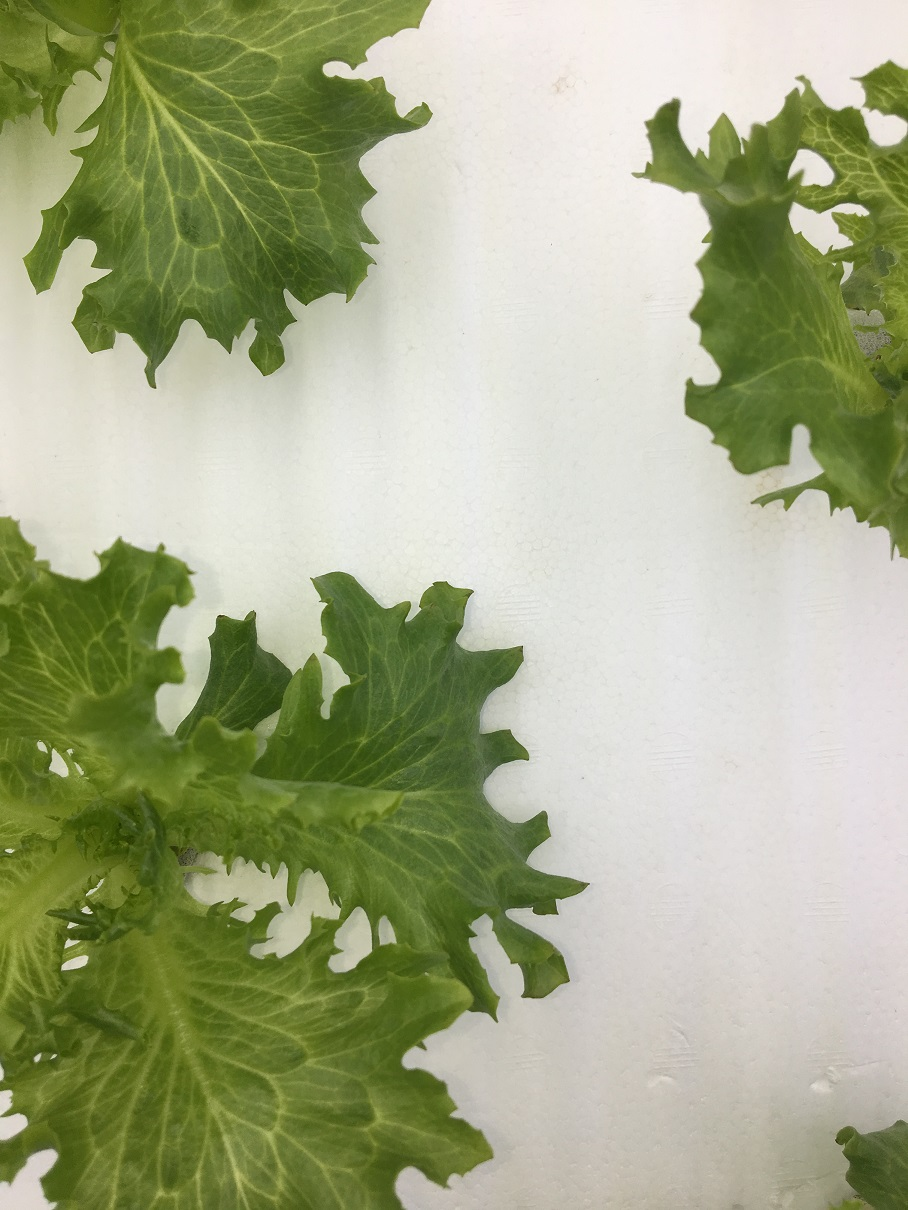tipburn: (211, 604, 231, 625)
